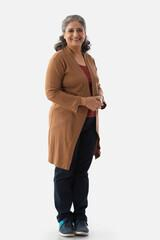Human: (46, 9, 105, 236)
